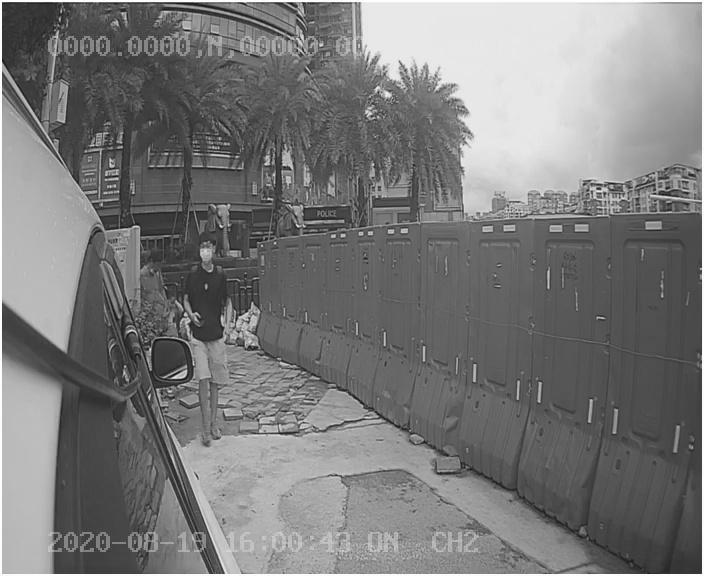person: (177, 237, 264, 442)
